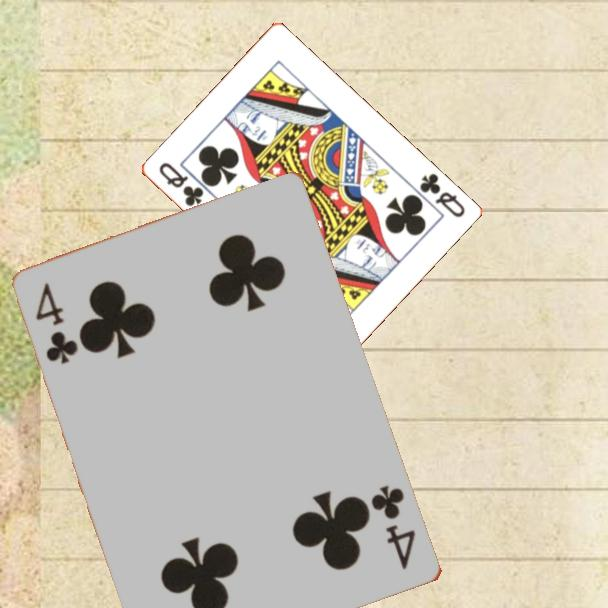c04: (368, 481, 419, 573), (32, 279, 81, 367)
c12: (416, 169, 468, 221), (155, 159, 206, 209)
